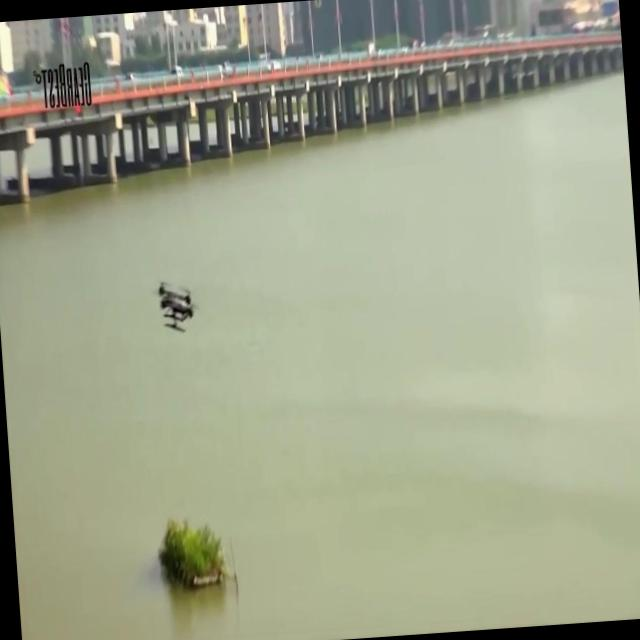drone: (154, 280, 198, 336)
